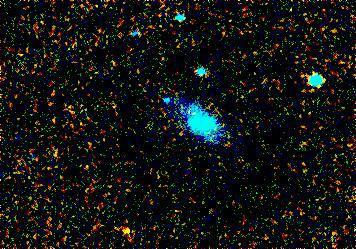star: (113, 217, 143, 247)
